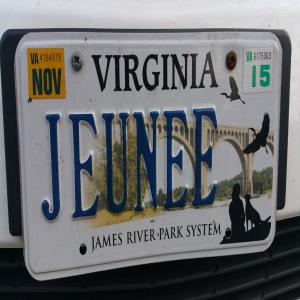Vehicle-registration-plate: (17, 32, 281, 285)
